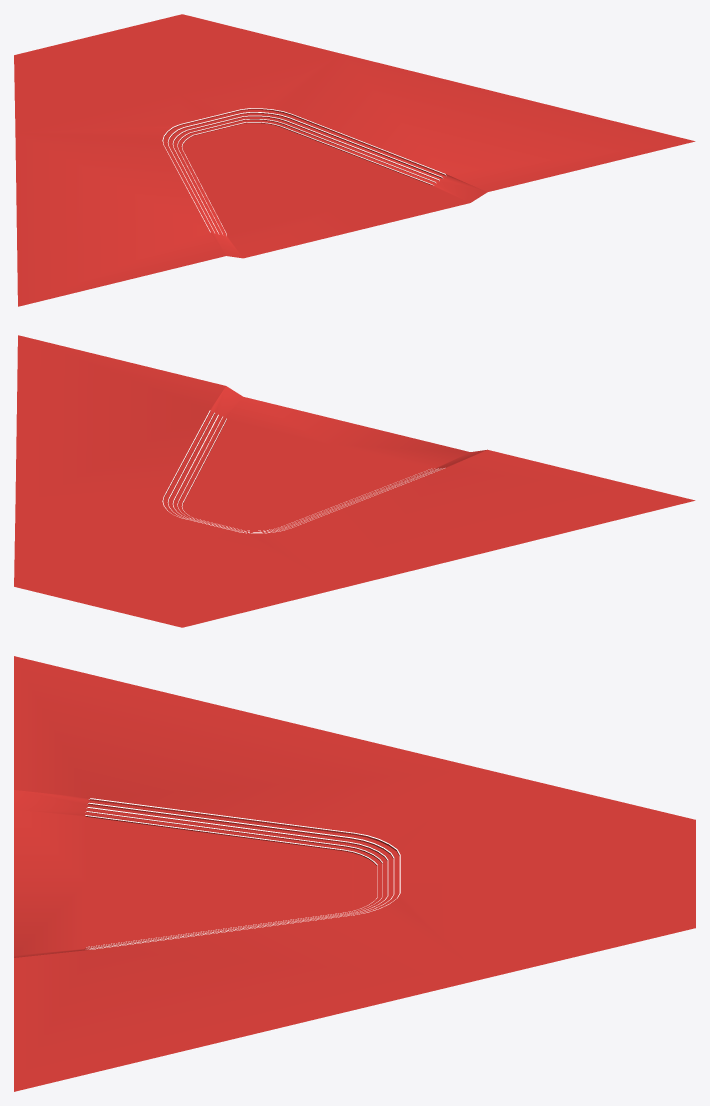
File: Casino_Ground.fbx
3 views of the same model, one above another, from view 1: azimuth 30°, elevation 25°; view 2: azimuth 150°, elevation 25°; view 3: azimuth 270°, elevation 25° (orthographic). The views are drawn at different scales.
Visible parts, largest first — view 1: Casino_Ground; view 2: Casino_Ground; view 3: Casino_Ground.
Part boxes in pixels (x1,y1,x2,y2): Casino_Ground: (14, 14, 695, 306); Casino_Ground: (14, 335, 695, 627); Casino_Ground: (14, 656, 695, 1091).
Size of the model in its own units: 11672 by 111 by 7717.
